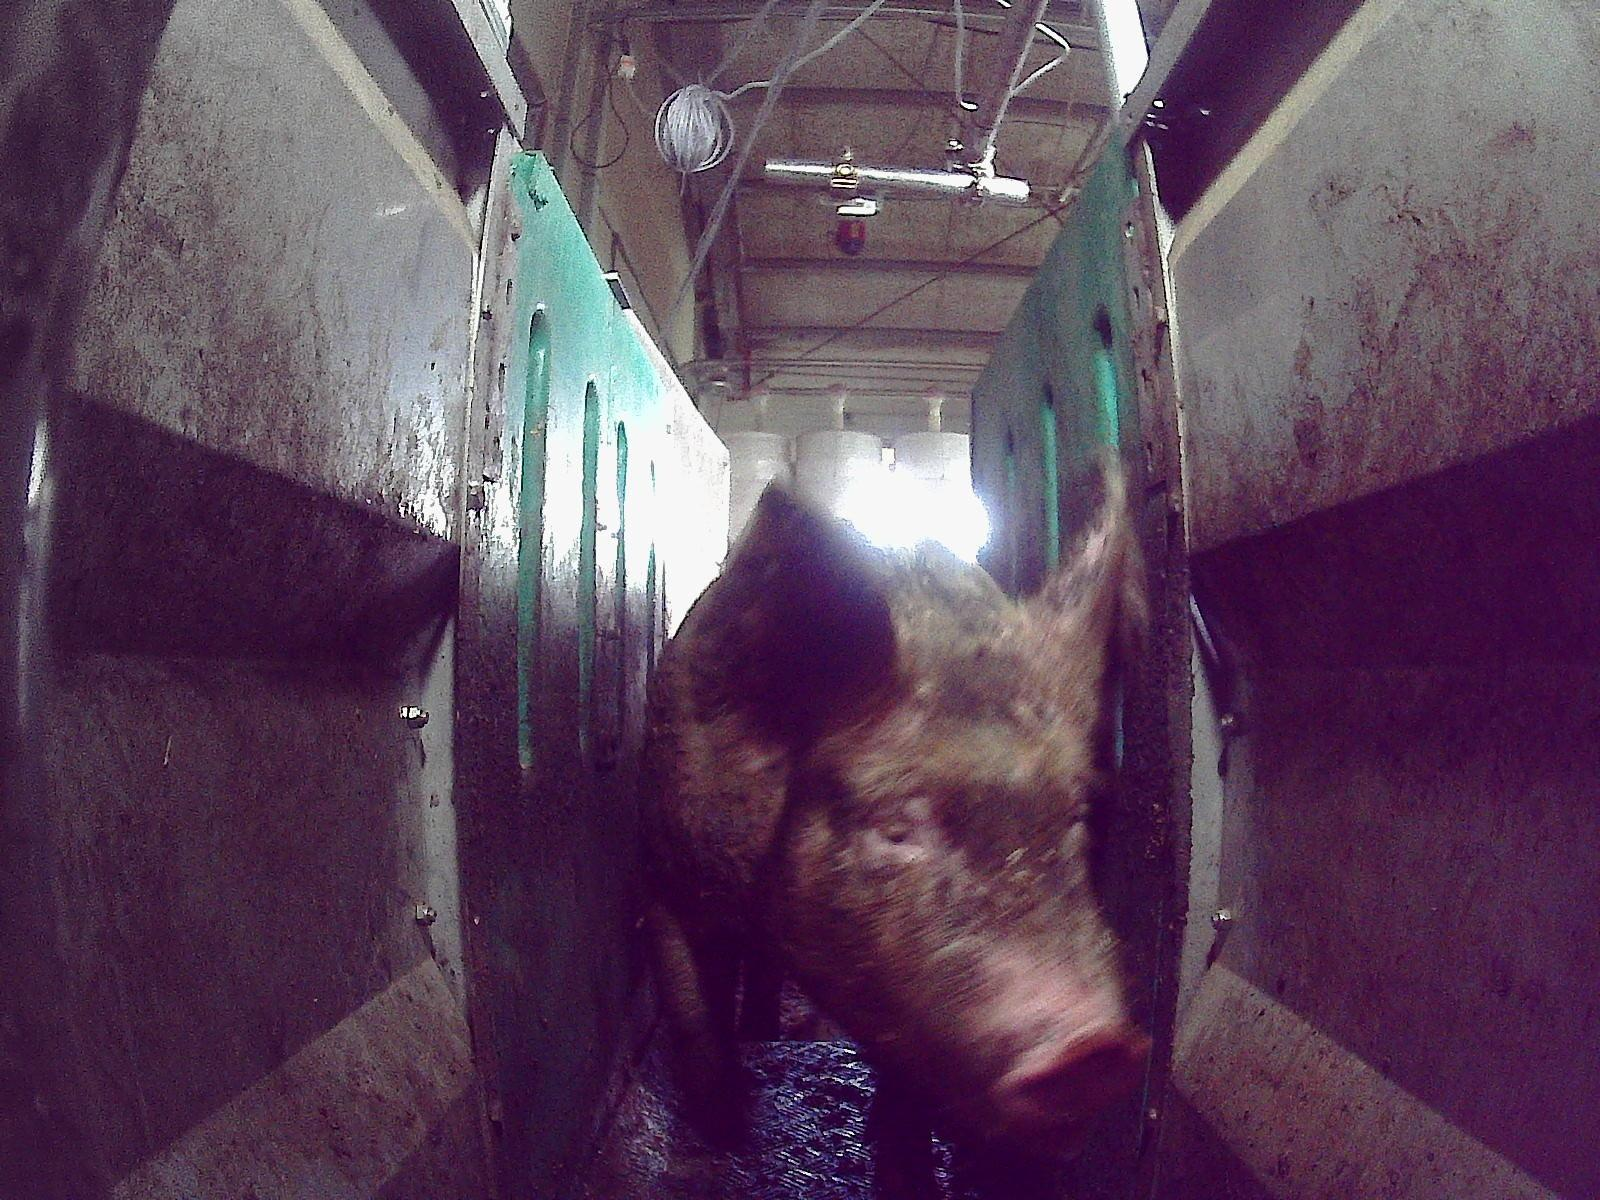Face: (774, 562, 1157, 1165)
